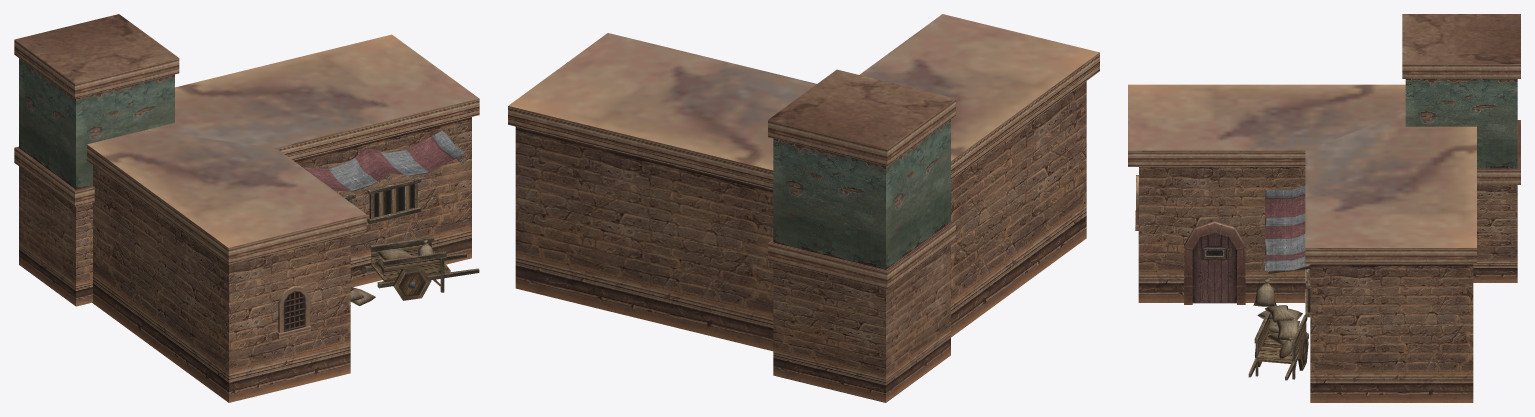
The model's file is SC_huangmo_21.FBX.
3 renders of one model, left to right at view 1: azimuth 30°, elevation 25°; view 2: azimuth 150°, elevation 25°; view 3: azimuth 270°, elevation 25°, orthographic. The views are drawn at different scales.
Visible parts, largest first — view 1: SC_huangmo_21; view 2: SC_huangmo_21; view 3: SC_huangmo_21.
Boxes of the visible parts, <box> form: SC_huangmo_21: <box>14,14,479,402</box>; SC_huangmo_21: <box>508,14,1099,402</box>; SC_huangmo_21: <box>1128,14,1520,402</box>.
Size of the model in its own units: 1175 by 717 by 1148.
